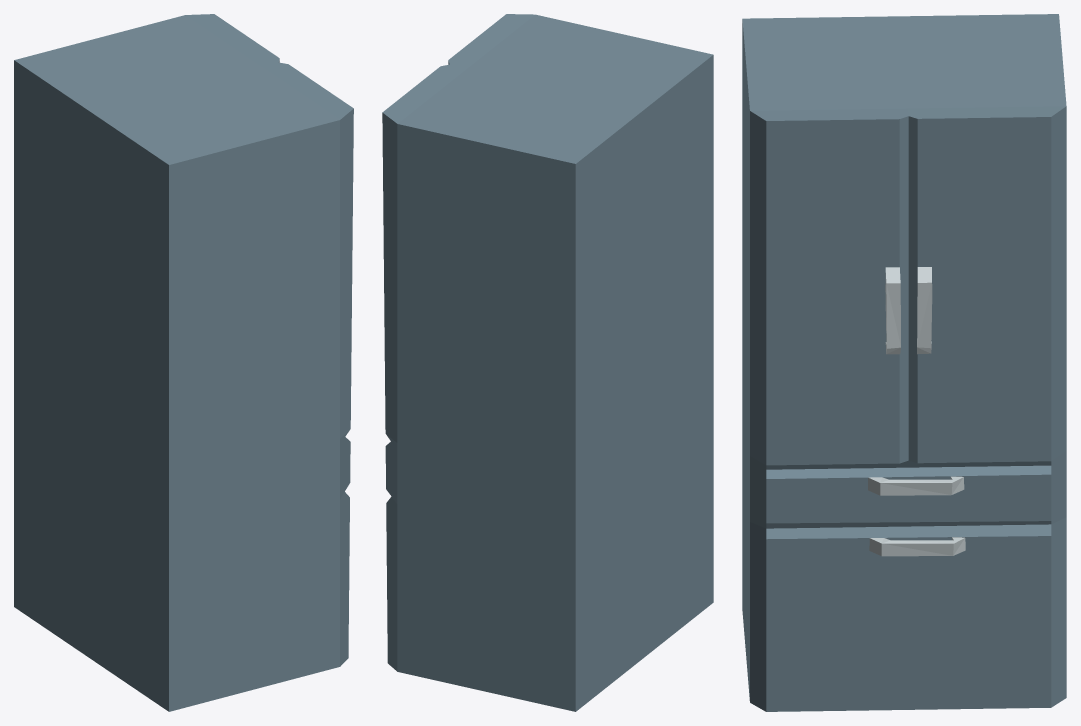
The model's file is Refrigerator.glb.
3 renders of one model, left to right at view 1: azimuth 30°, elevation 25°; view 2: azimuth 150°, elevation 25°; view 3: azimuth 270°, elevation 25°, orthographic. The views are drawn at different scales.
Visible parts, largest first — view 1: group1207607877; view 2: group1207607877; view 3: group1207607877, group1076759998, group1025514721, group1726520313, group1076083137.
Boxes of the visible parts, <box> form: group1207607877: <box>14,14,353,711</box>; group1207607877: <box>382,14,713,711</box>; group1207607877: <box>742,14,1066,711</box>; group1076759998: <box>868,476,964,495</box>; group1025514721: <box>869,537,965,556</box>; group1726520313: <box>885,267,900,354</box>; group1076083137: <box>917,267,932,354</box>.
Bounding box in the file's own units: 0.3891 × 0.9727 × 0.4812.
